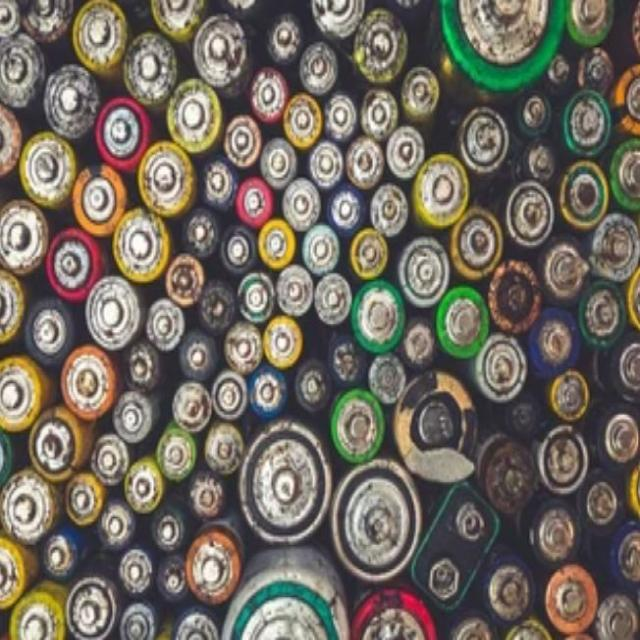electronic: (238, 424, 334, 546)
